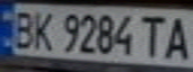2: (78, 10, 100, 55)
4: (112, 11, 139, 56)
8: (93, 10, 118, 55)
9: (57, 9, 81, 54)
A: (160, 12, 193, 62)
B: (6, 7, 39, 50)
K: (27, 8, 57, 52)
T: (136, 11, 169, 58)
